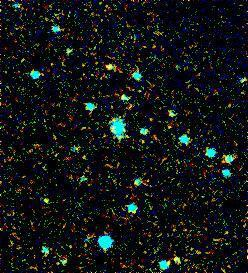star: (29, 187, 59, 217)
